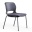chair: (2, 1, 30, 32)
